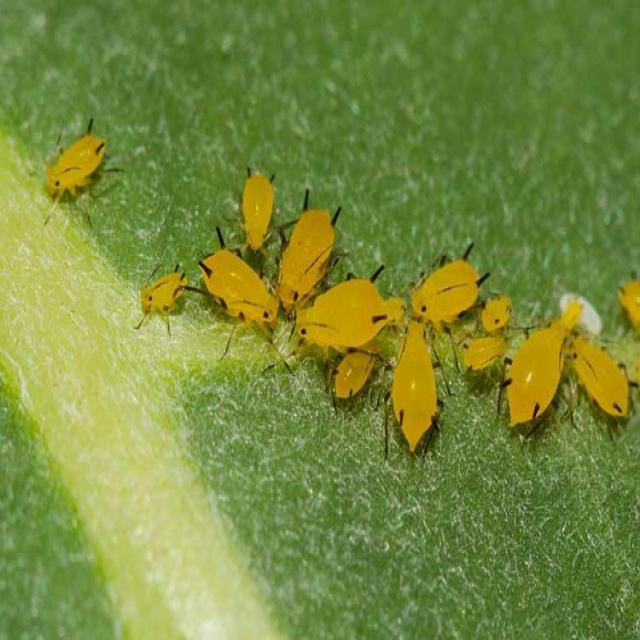Aphids: (200, 229, 284, 375), (492, 292, 566, 452), (282, 267, 402, 361), (378, 316, 449, 465), (31, 122, 118, 234), (404, 241, 486, 335), (562, 325, 635, 429), (276, 188, 336, 312), (135, 264, 191, 336), (235, 167, 278, 248), (457, 326, 513, 380), (480, 292, 518, 330)
